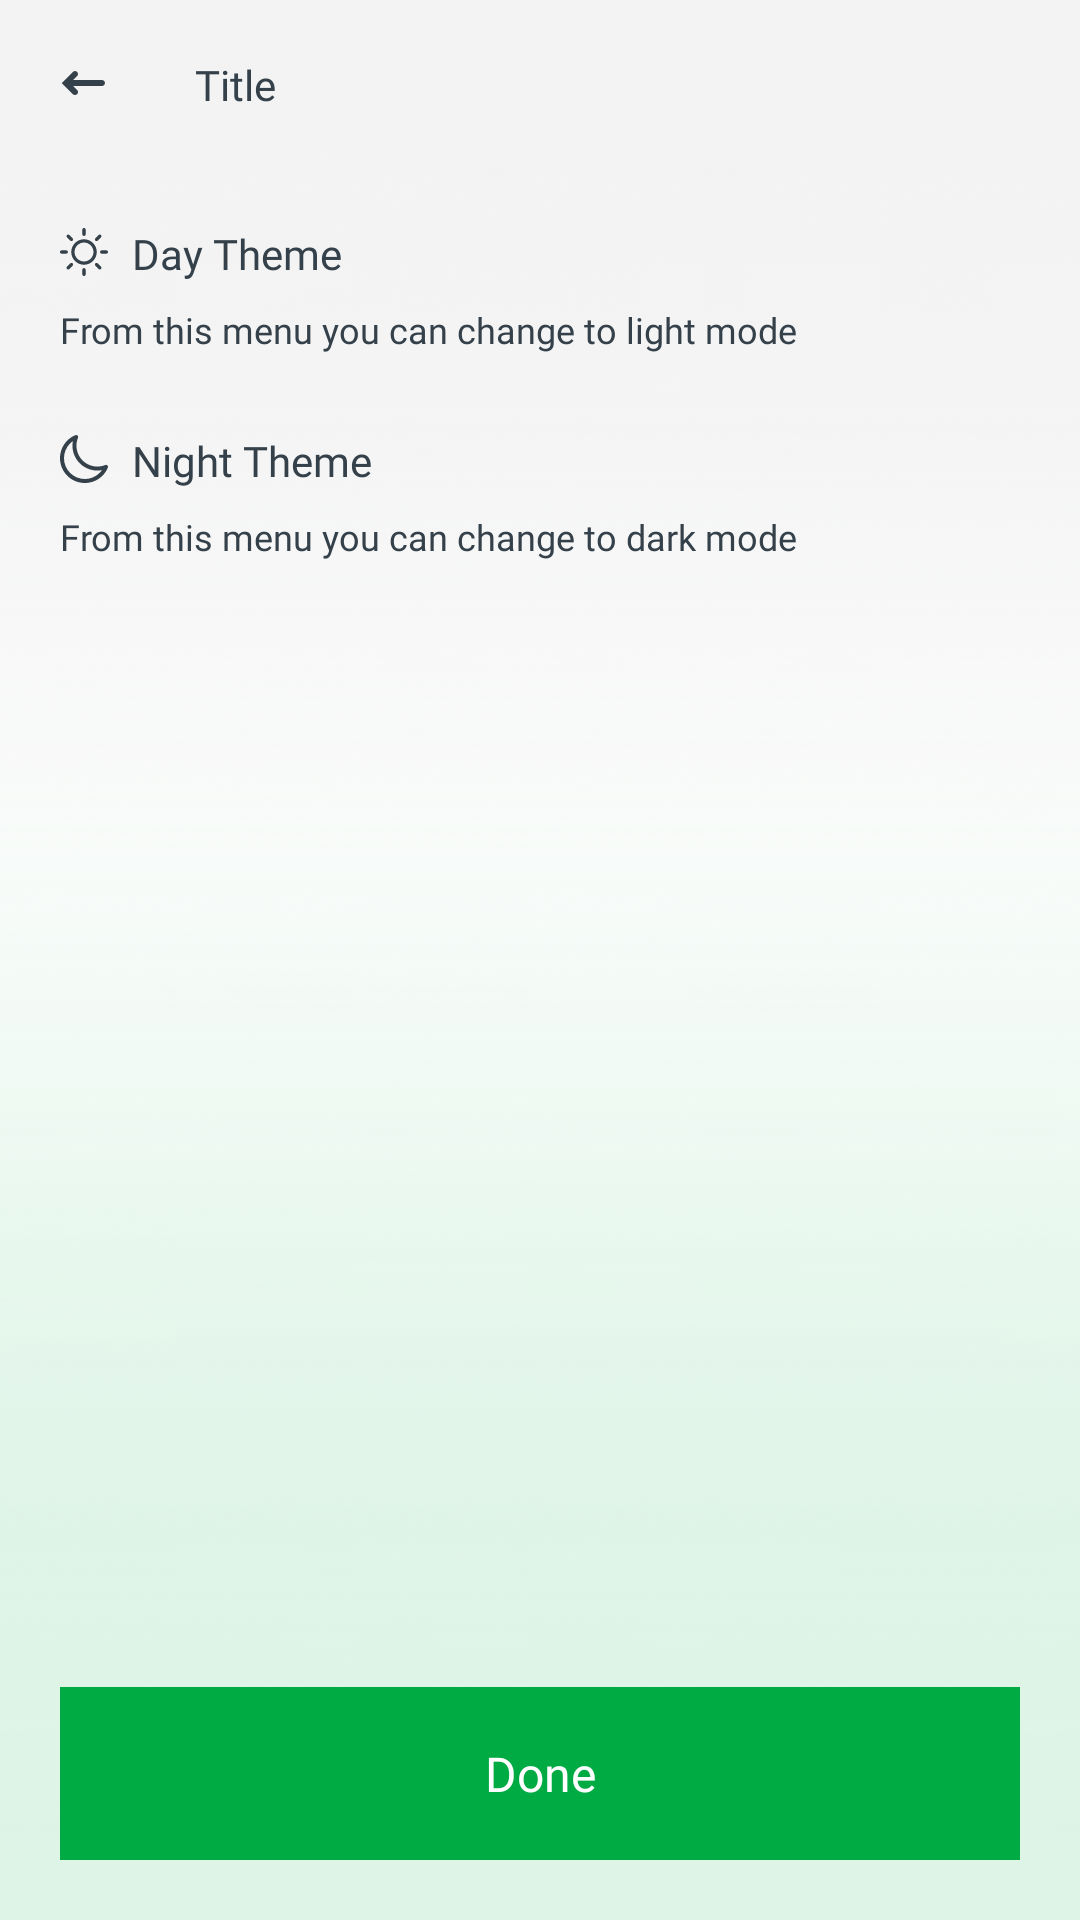

Where icons sit on this 1080w x 1920h app screen, as (x1,y1,x2,y2):
back: (62,71,105,95)
